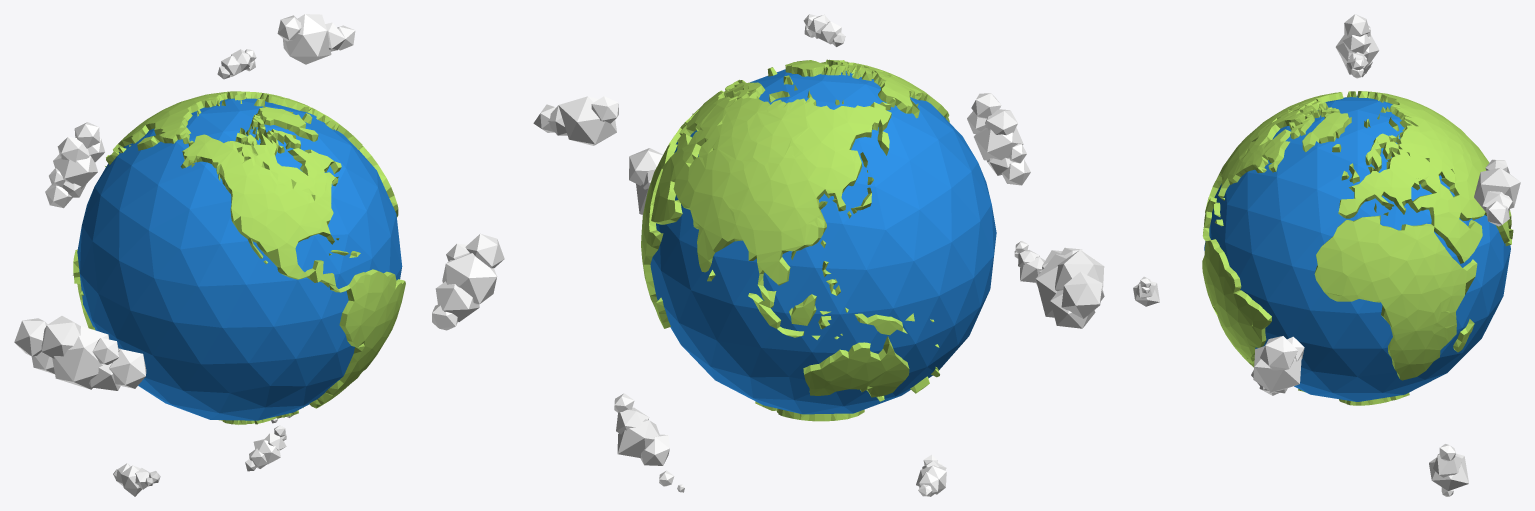
The picture shows the model from 3 angles, left to right: view 1: azimuth 30°, elevation 25°; view 2: azimuth 150°, elevation 25°; view 3: azimuth 270°, elevation 25°; orthographic projection. The views are drawn at different scales.
Parts seen in each view (by area): view 1: Ocean, Low Poly Earth.001, Cloud 3, Cloud 5, Cloud 2, Cloud 4, Cloud 7, Cloud 8, Cloud 1; view 2: Ocean, Low Poly Earth.001, Cloud 3, Cloud 2, Cloud 4, Cloud 6, Cloud 5, Cloud 8, Cloud 1, Cloud 7; view 3: Low Poly Earth.001, Ocean, Cloud 5, Cloud 4, Cloud 2, Cloud 6, Cloud 7.
Boxes of the visible parts, x1,y1,x2,y2 form: Ocean: (77, 98, 402, 420); Low Poly Earth.001: (73, 91, 405, 424); Cloud 3: (14, 316, 146, 390); Cloud 5: (432, 233, 504, 330); Cloud 2: (45, 122, 104, 208); Cloud 4: (277, 14, 355, 64); Cloud 7: (245, 425, 286, 471); Cloud 8: (113, 463, 160, 496); Cloud 1: (217, 49, 256, 79); Ocean: (650, 69, 996, 414); Low Poly Earth.001: (641, 59, 949, 421); Cloud 3: (1036, 247, 1104, 328); Cloud 2: (967, 93, 1030, 185); Cloud 4: (533, 96, 618, 145); Cloud 6: (614, 393, 684, 492); Cloud 5: (629, 148, 662, 215); Cloud 8: (916, 454, 946, 496); Cloud 1: (803, 14, 845, 46); Cloud 7: (1014, 241, 1044, 285); Low Poly Earth.001: (1202, 91, 1513, 405); Ocean: (1204, 96, 1510, 401); Cloud 5: (1251, 336, 1304, 395); Cloud 4: (1474, 159, 1520, 226); Cloud 2: (1335, 14, 1379, 77); Cloud 6: (1429, 444, 1468, 496); Cloud 7: (1133, 276, 1159, 306).
Size of what is drawn, in the model's own units: 3.25 by 2.88 by 2.53.
